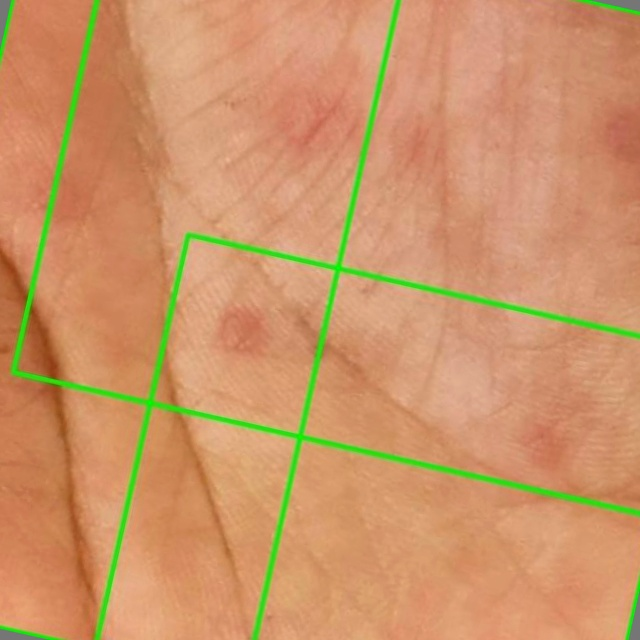Contact Dermatitis: (13, 0, 639, 513), (0, 0, 398, 639), (97, 235, 639, 639)
